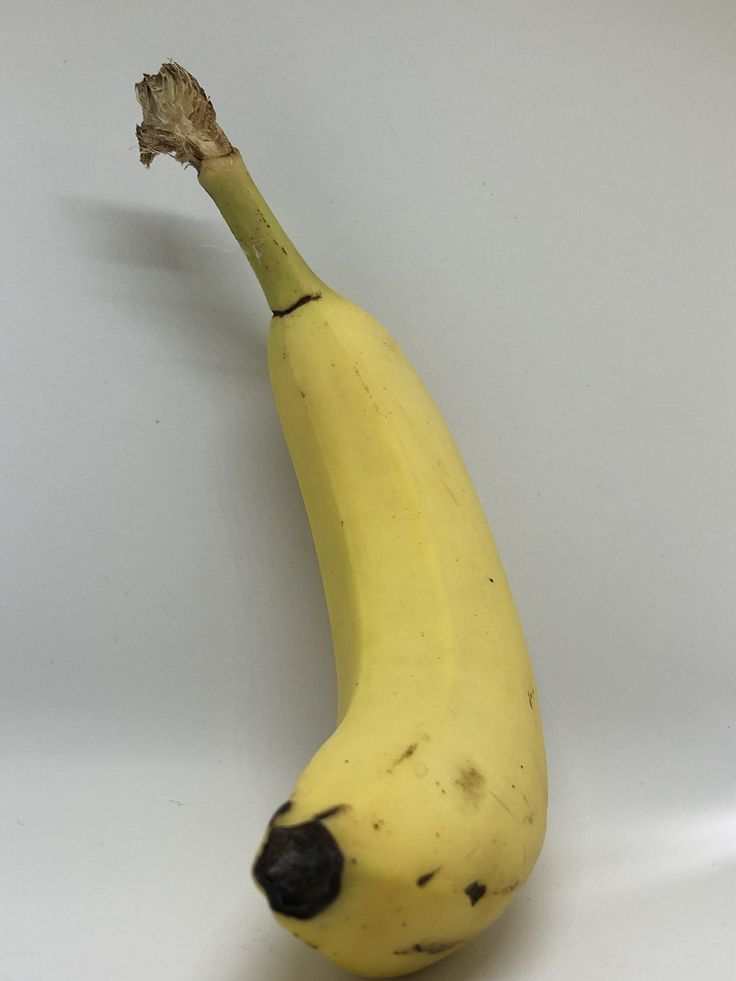Banana: (135, 62, 547, 978)
